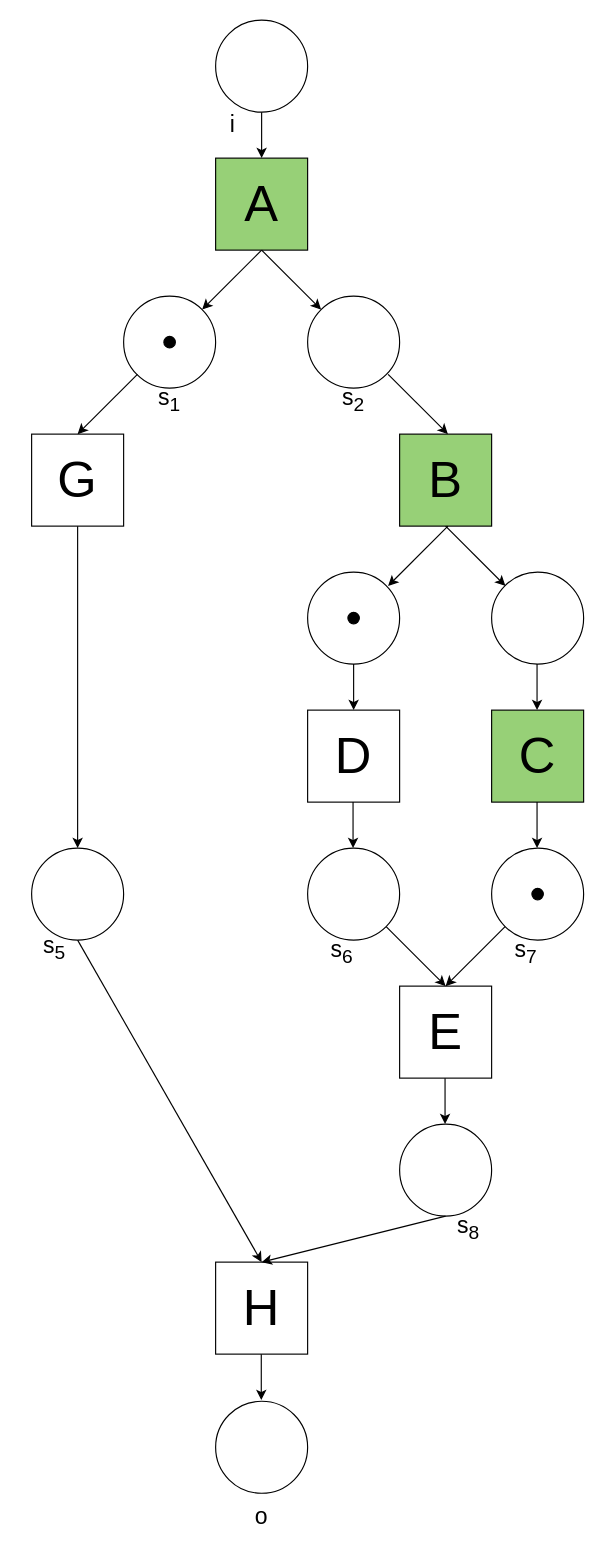
Some shapes in this 604 by 1558 pixel diagram are drawn without their labels. Each missing label, with the centre of its shape:
s 3: the point at 353,617
s 4: the point at 537,617
